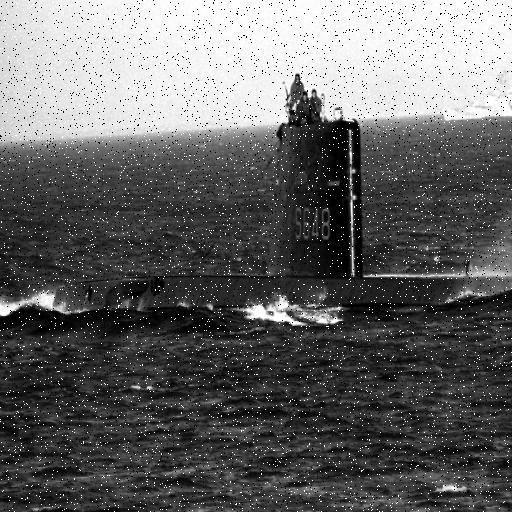submarine: (36, 99, 512, 320)
